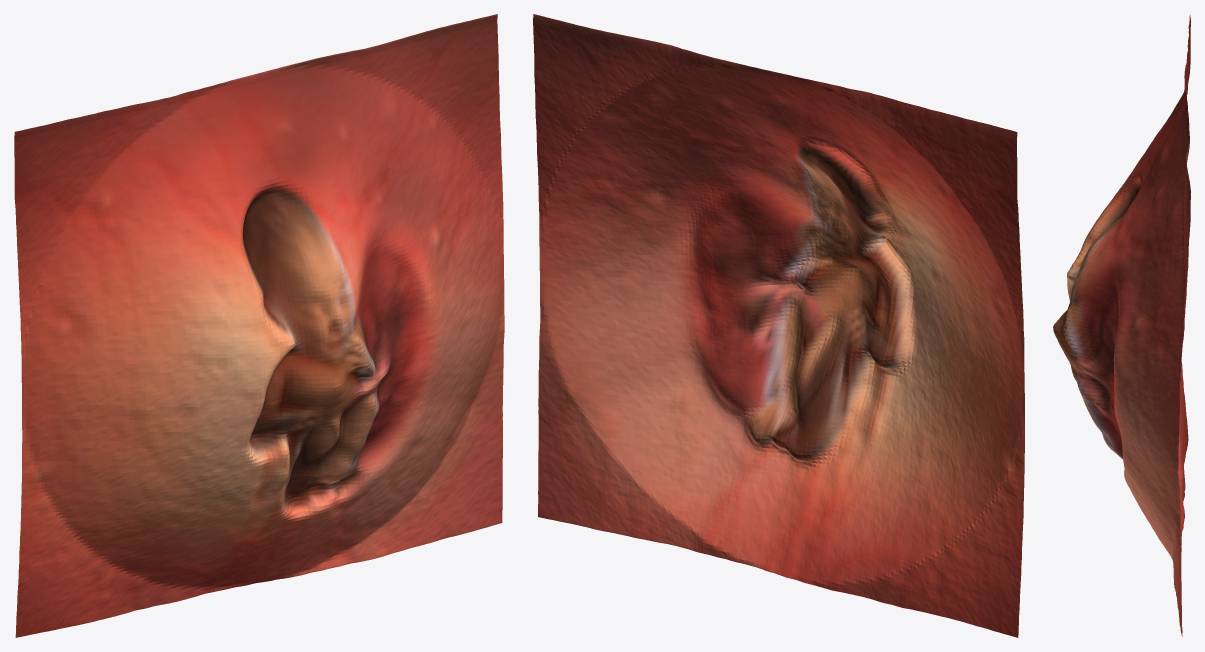
Rendered from week40.glb.
The picture shows the model from 3 angles, left to right: view 1: azimuth 30°, elevation 25°; view 2: azimuth 150°, elevation 25°; view 3: azimuth 270°, elevation 25°; orthographic projection. The views are drawn at different scales.
Parts seen in each view (by area): view 1: world; view 2: world; view 3: world.
Part boxes in pixels (x1=…): world: x1=14, y1=14, x2=504, y2=637; world: x1=533, y1=14, x2=1024, y2=637; world: x1=1053, y1=15, x2=1190, y2=636.
Size of the model in its own units: 2 by 2 by 0.5875.
Materials: 1 (1 with a texture image).
